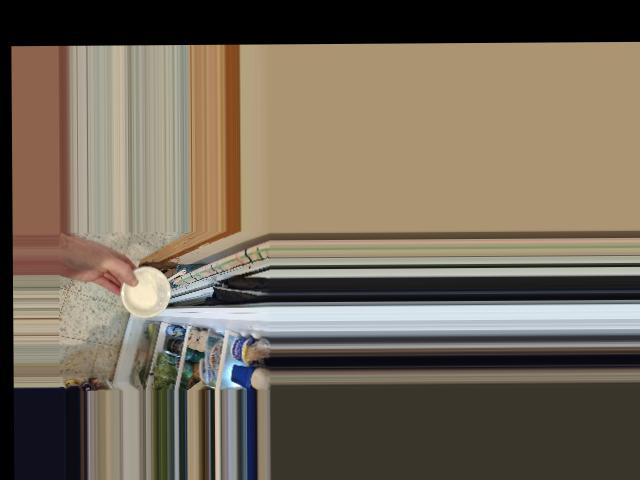cotage: (117, 263, 168, 310)
